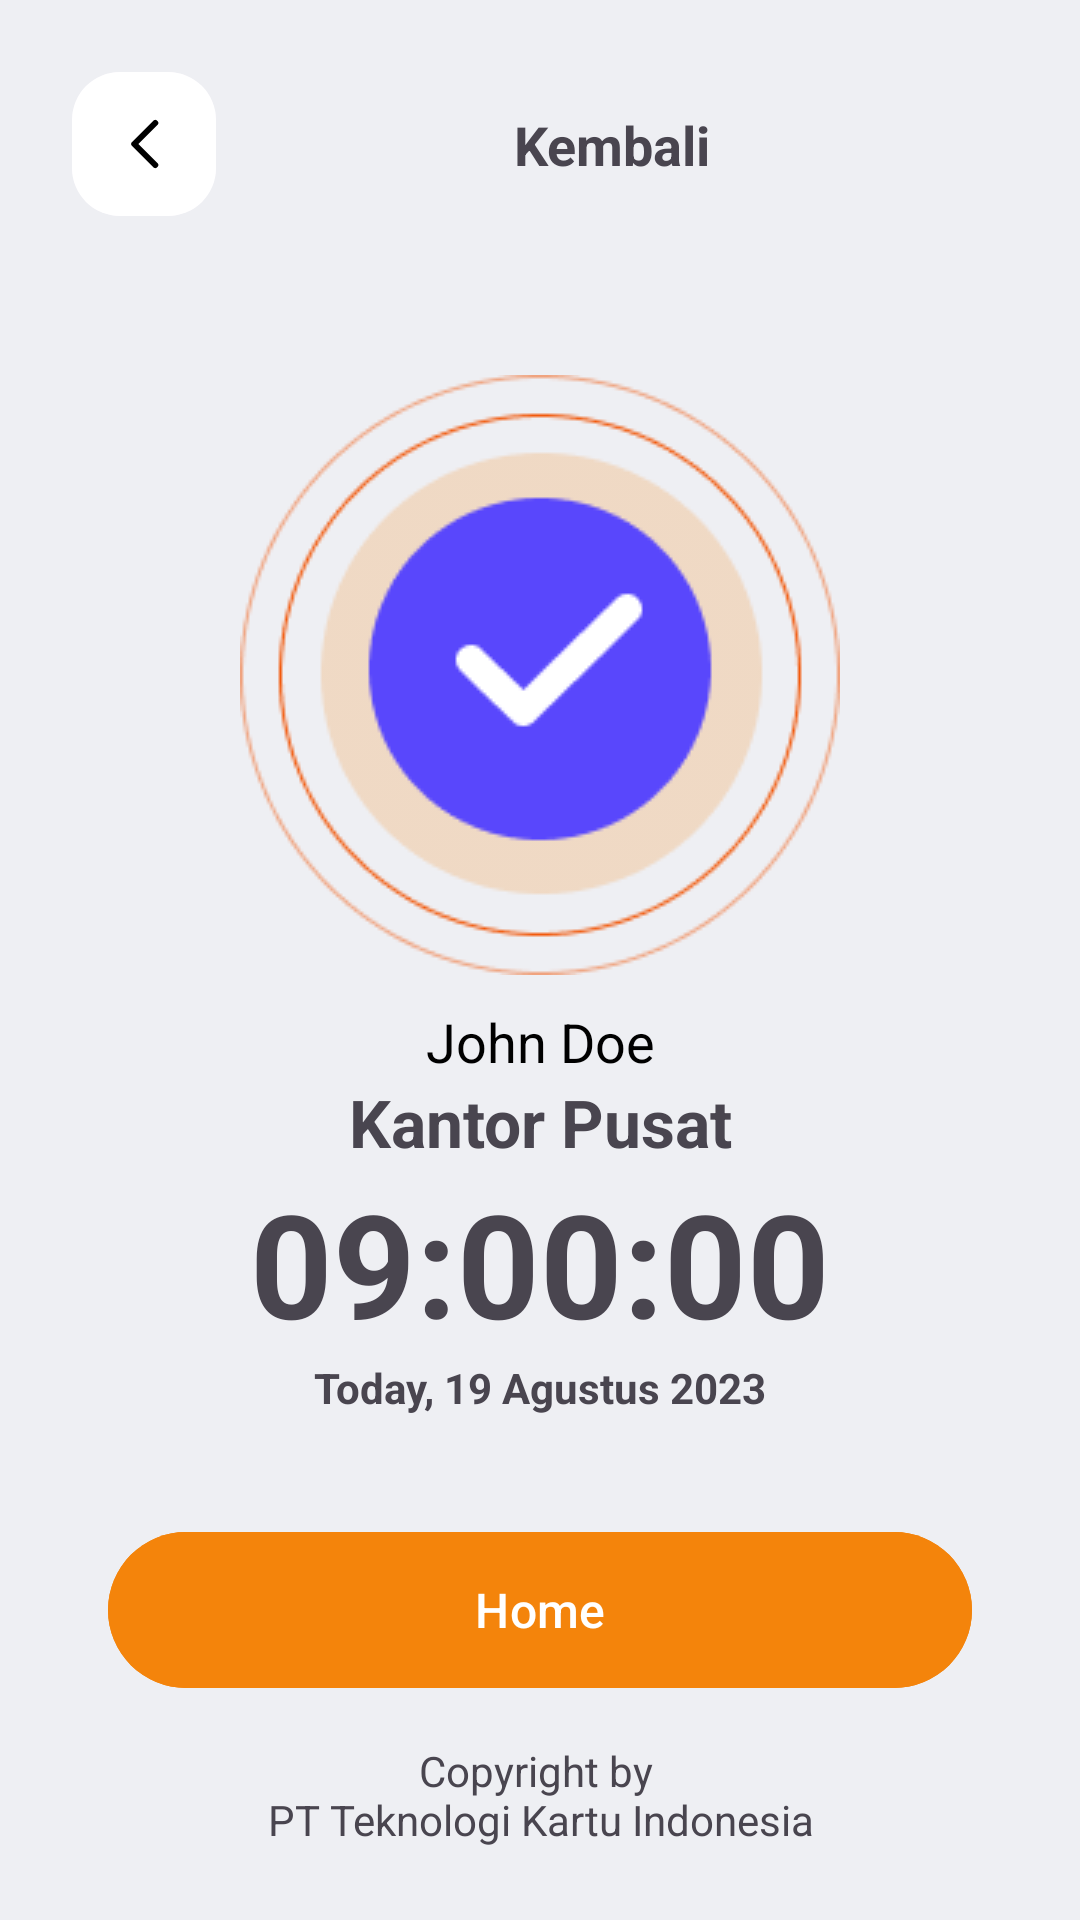

Named icons in this screenshot (1080x1920) and their bounding boxes, (x1, y1, x2, y2):
arrow left: (72, 72, 216, 216)
